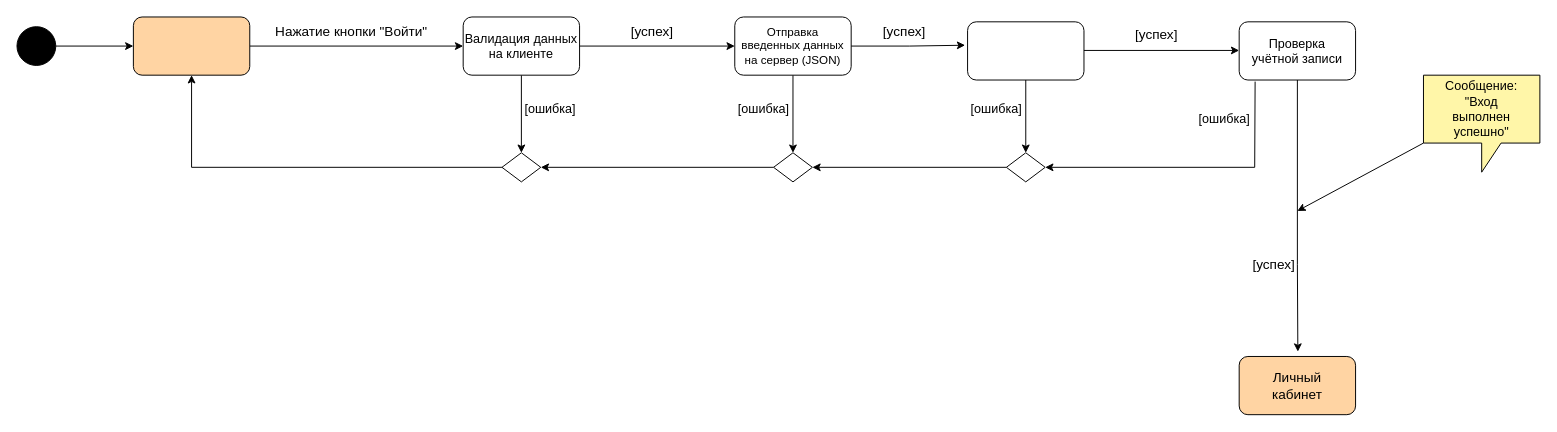
The diagram is 1557 pixels wide and 432 high, and some of its shapes have lost their labels. Here are the shapes that lost their labels. From the top down, the centre of each, then its label:
At point 191,45: "Форма входа".
At point 1025,50: "Валидация данных на сервере".
